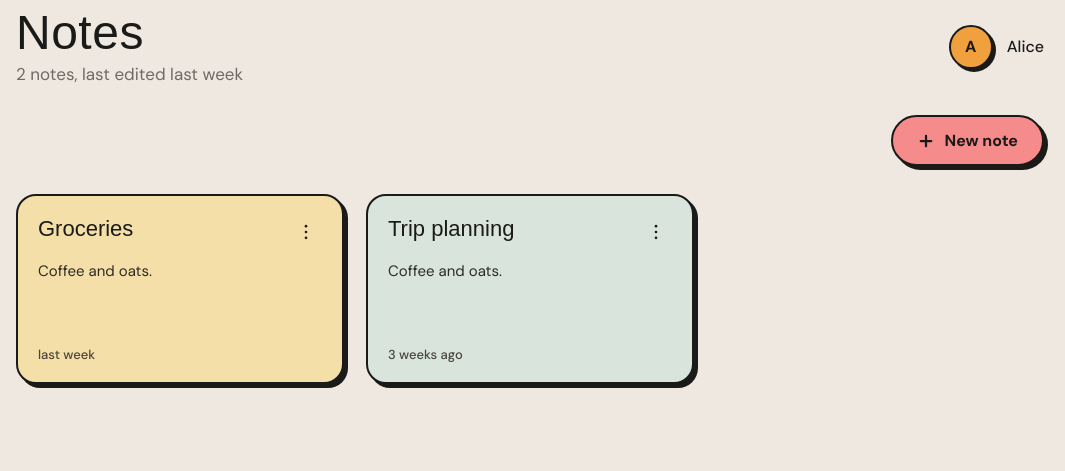
Test: DashboardPage › acting on a note › shows a renamed note under its new title
Click the button named "Actions for Groceries": (306, 232) [290,216,322,248]
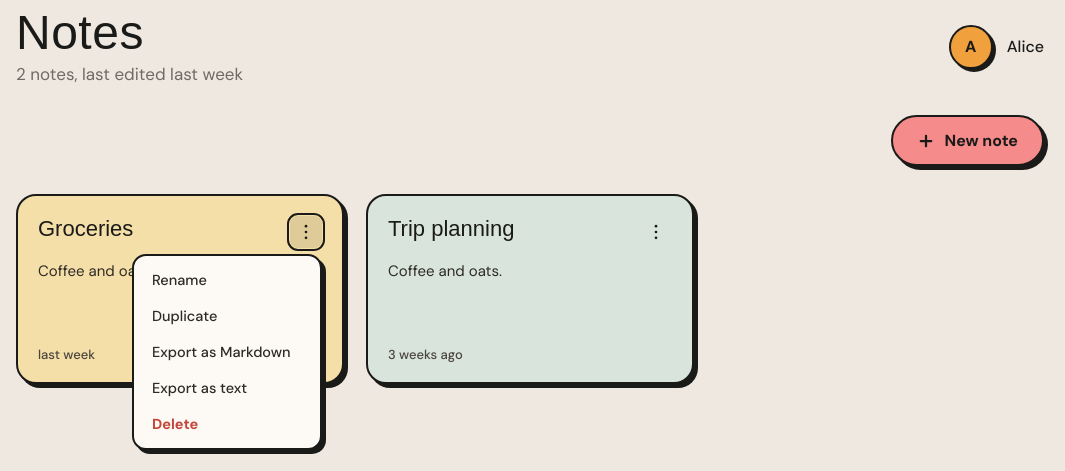
Click the button "Rename": (227, 280) [140,262,314,298]
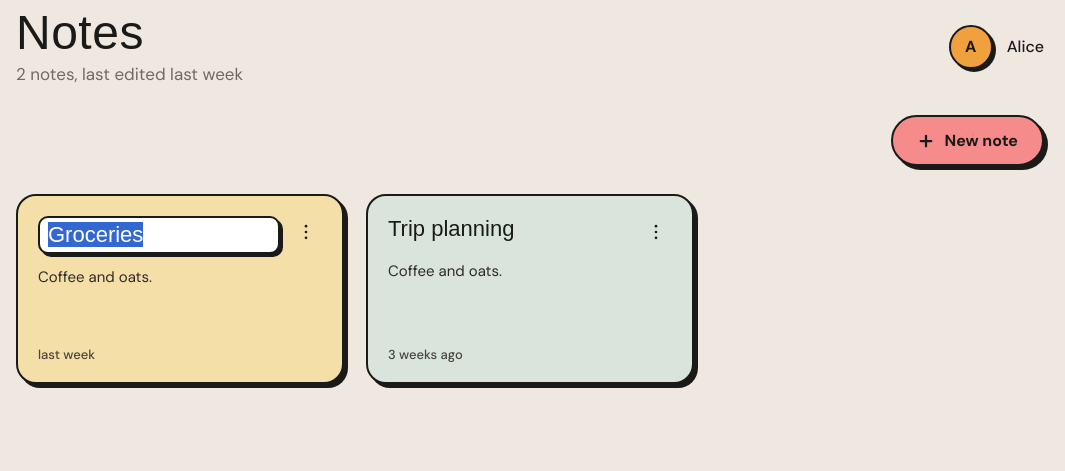
Replace the text in the field named "Note title" with "Weekly shop": (159, 235) [38,216,280,254]
Then press Enter
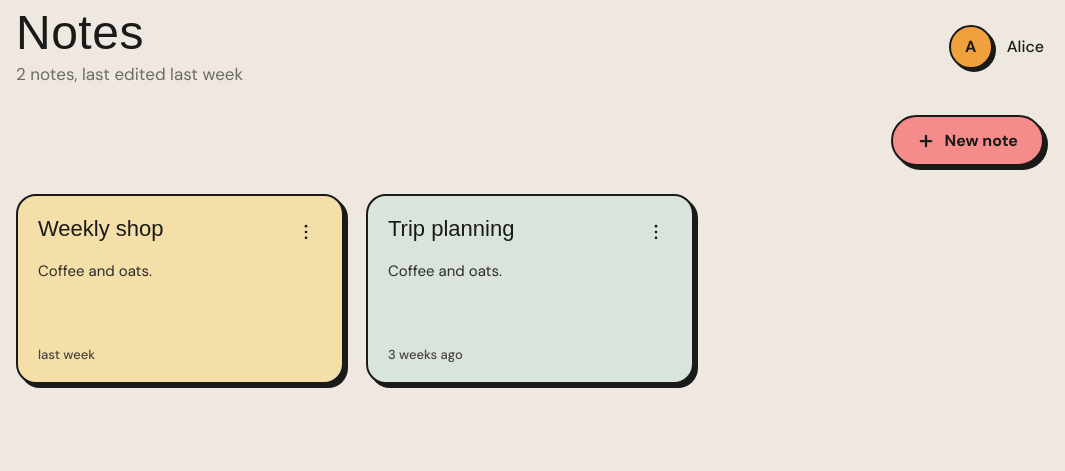
expect the button "Weekly shop" is shown: met, box [38,216,164,242]
